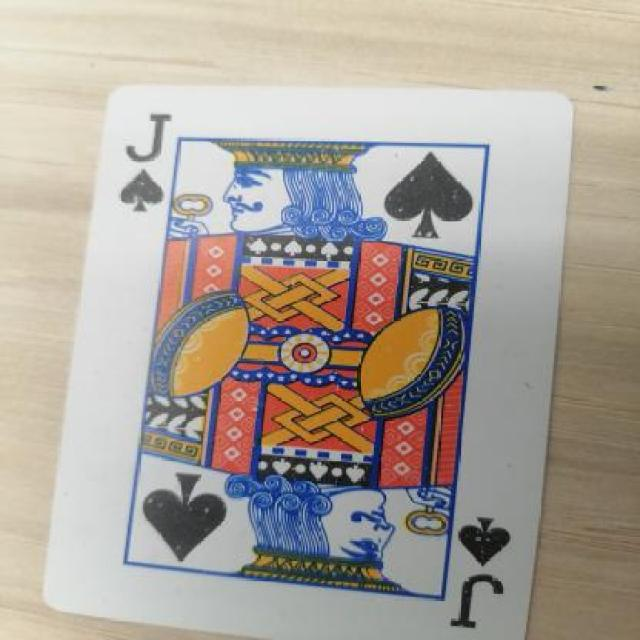JS: (442, 504, 530, 630), (103, 101, 185, 228)
